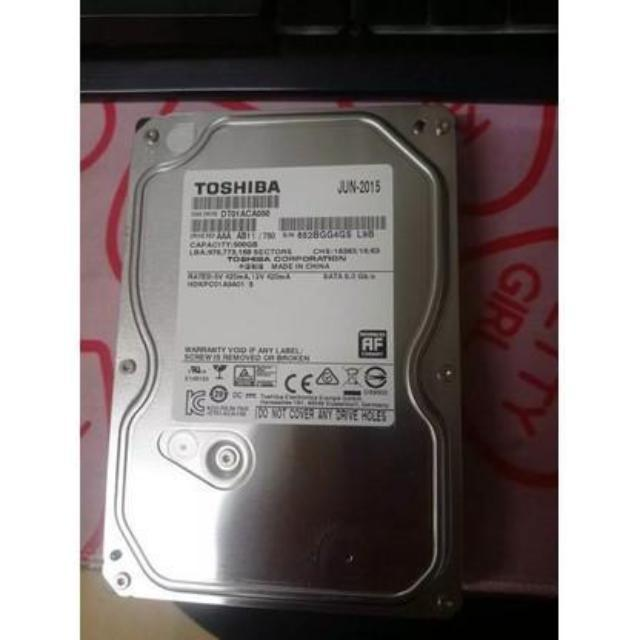DISK: (107, 103, 456, 605)
